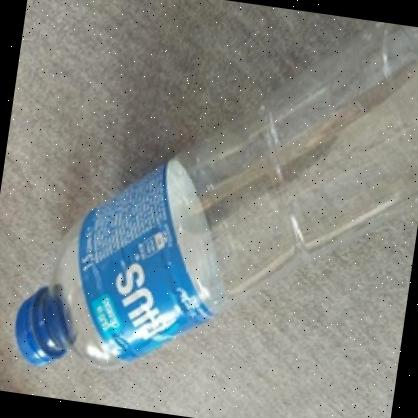bottle: (5, 0, 418, 418)
cap: (6, 299, 74, 374)
label: (59, 145, 233, 381)
